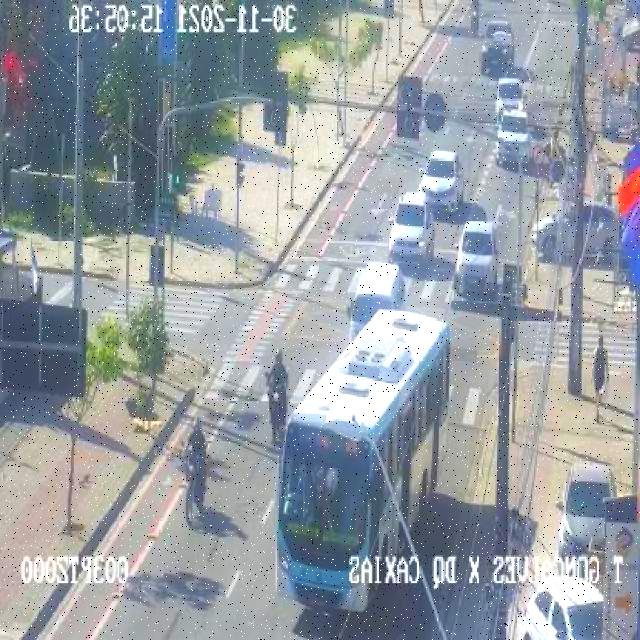bus: (277, 308, 451, 610)
car: (559, 464, 615, 573), (522, 576, 604, 639), (350, 262, 406, 352), (532, 200, 618, 258), (390, 192, 436, 266), (456, 220, 499, 291), (420, 150, 465, 212), (497, 108, 532, 164), (482, 19, 516, 73), (496, 76, 524, 122)
motorbike: (184, 415, 208, 523), (268, 348, 290, 440), (592, 334, 610, 422), (545, 129, 569, 186), (468, 0, 482, 38)
